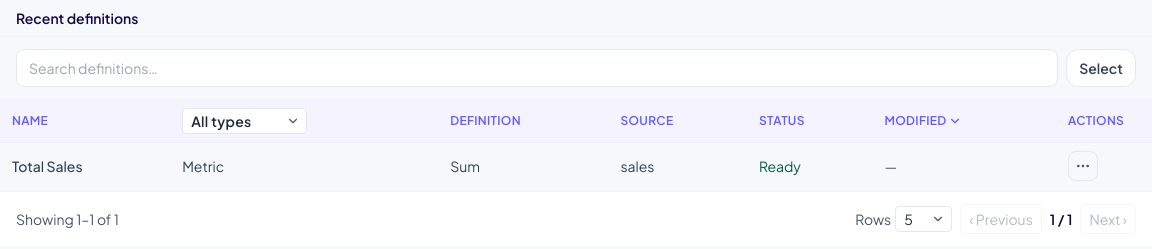
Test: SEM-2A authoring core › SEM-2A-028c Recent definitions Select mode
This screenshot has width=1152, height=249.
Expected: the text "Total Sales" is shown, [0,142,170,190]
Click the button with aria-label "Select rows".
click(1101, 68)  # box [1066,49,1136,87]
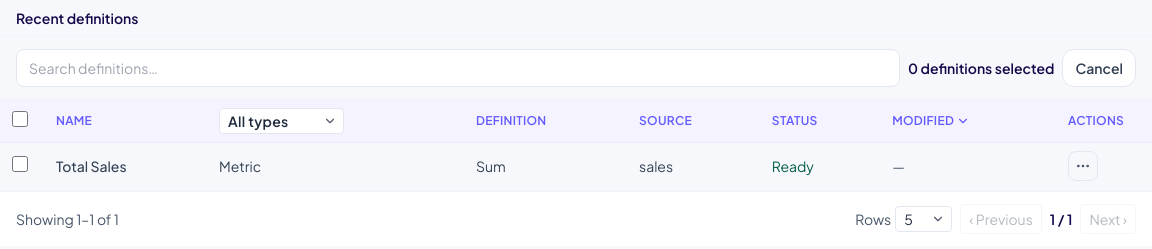
Expected: the checkbox named "Select Total Sales" is shown, [12,156,28,172]
